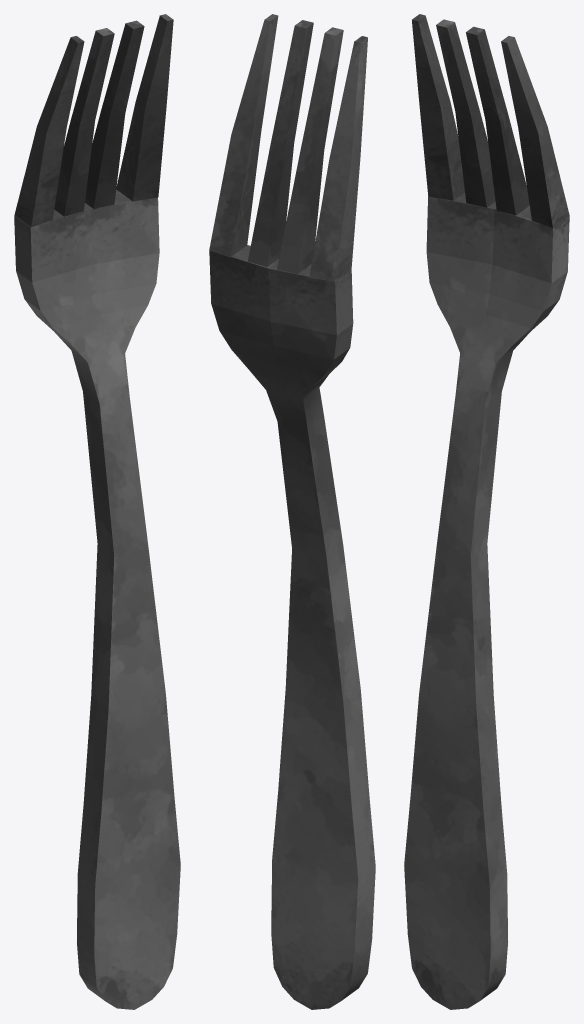
The model's file is Garfo_MESH.fbx.
The picture shows the model from 3 angles, left to right: view 1: azimuth 30°, elevation 25°; view 2: azimuth 150°, elevation 25°; view 3: azimuth 330°, elevation 25°; orthographic projection.
Visible parts, largest first — view 1: Garfo_MESH; view 2: Garfo_MESH; view 3: Garfo_MESH.
Boxes of the visible parts, box(x1,y1,x2,y2) form: Garfo_MESH: box(14, 14, 180, 1009); Garfo_MESH: box(209, 14, 375, 1009); Garfo_MESH: box(404, 14, 569, 1009).
Size of the model in its own units: 3.04 by 22.36 by 2.66.
1 material, 1 textured.
